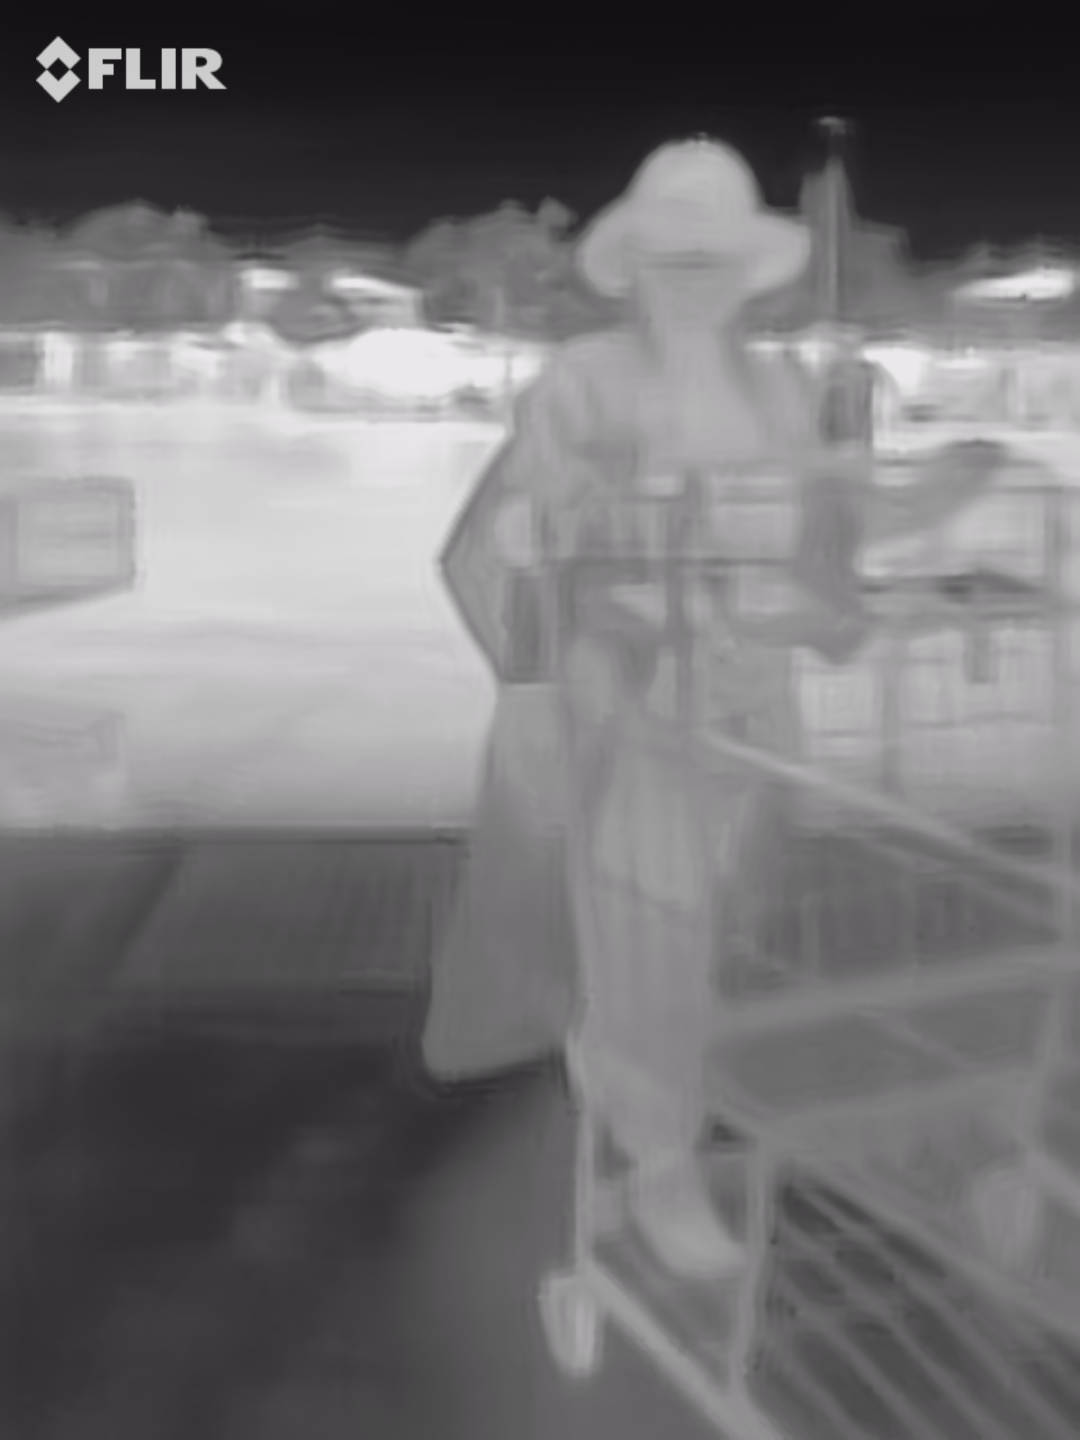head: (633, 138, 753, 329)
